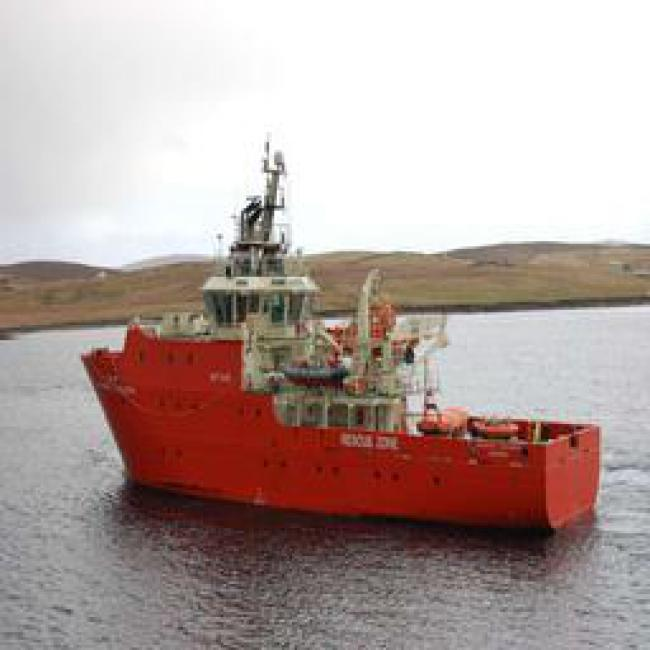Ship: (72, 281, 609, 537)
